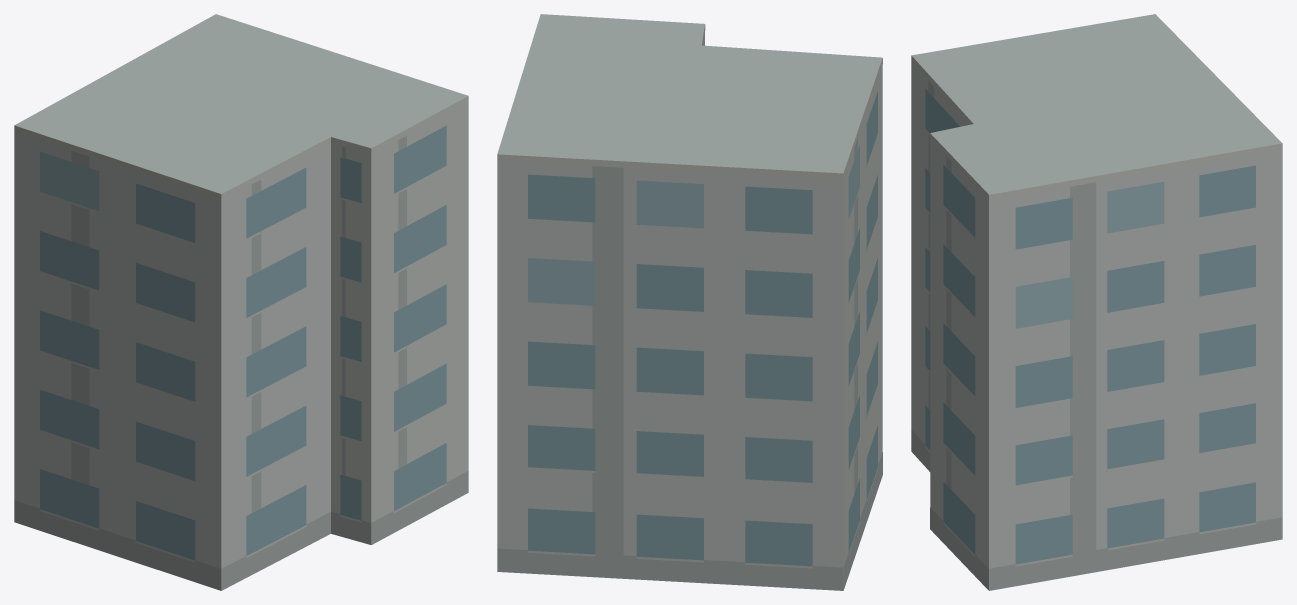
Rendered from survey-upis-32852335.glb.
The picture shows the model from 3 angles, left to right: view 1: azimuth 30°, elevation 25°; view 2: azimuth 150°, elevation 25°; view 3: azimuth 270°, elevation 25°; orthographic projection. The views are drawn at different scales.
Parts seen in each view (by area): view 1: survey-upis-32852335.tmp; view 2: survey-upis-32852335.tmp; view 3: survey-upis-32852335.tmp.
Part boxes in pixels (x1,y1,x2,y2): survey-upis-32852335.tmp: (14,14,468,590); survey-upis-32852335.tmp: (497,14,882,590); survey-upis-32852335.tmp: (911,14,1282,590).
Bounding box in the file's own units: 15.28 × 15.6 × 13.26.
